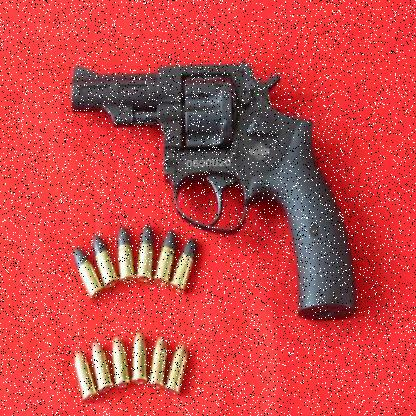pistol: (70, 62, 354, 322)
